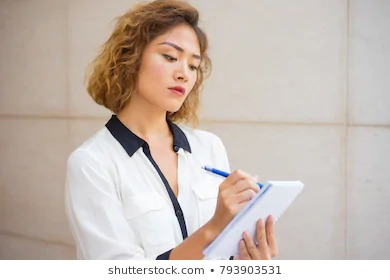S_blouse: (51, 109, 254, 258)
